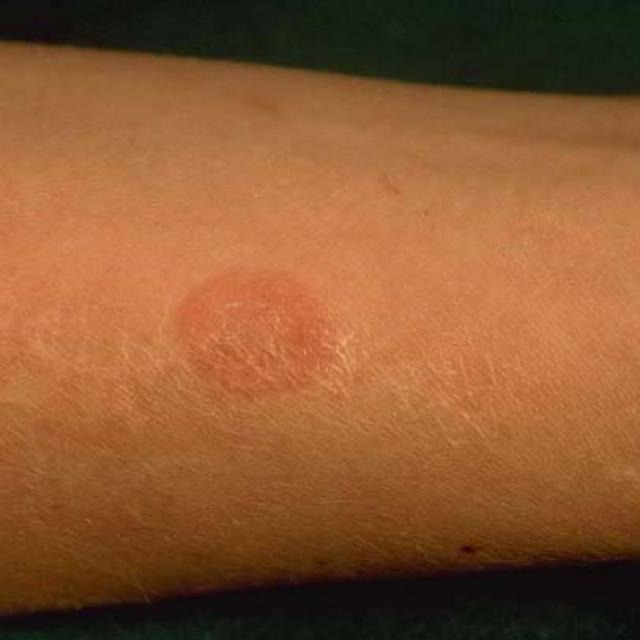Ringworm: (153, 227, 363, 423)
